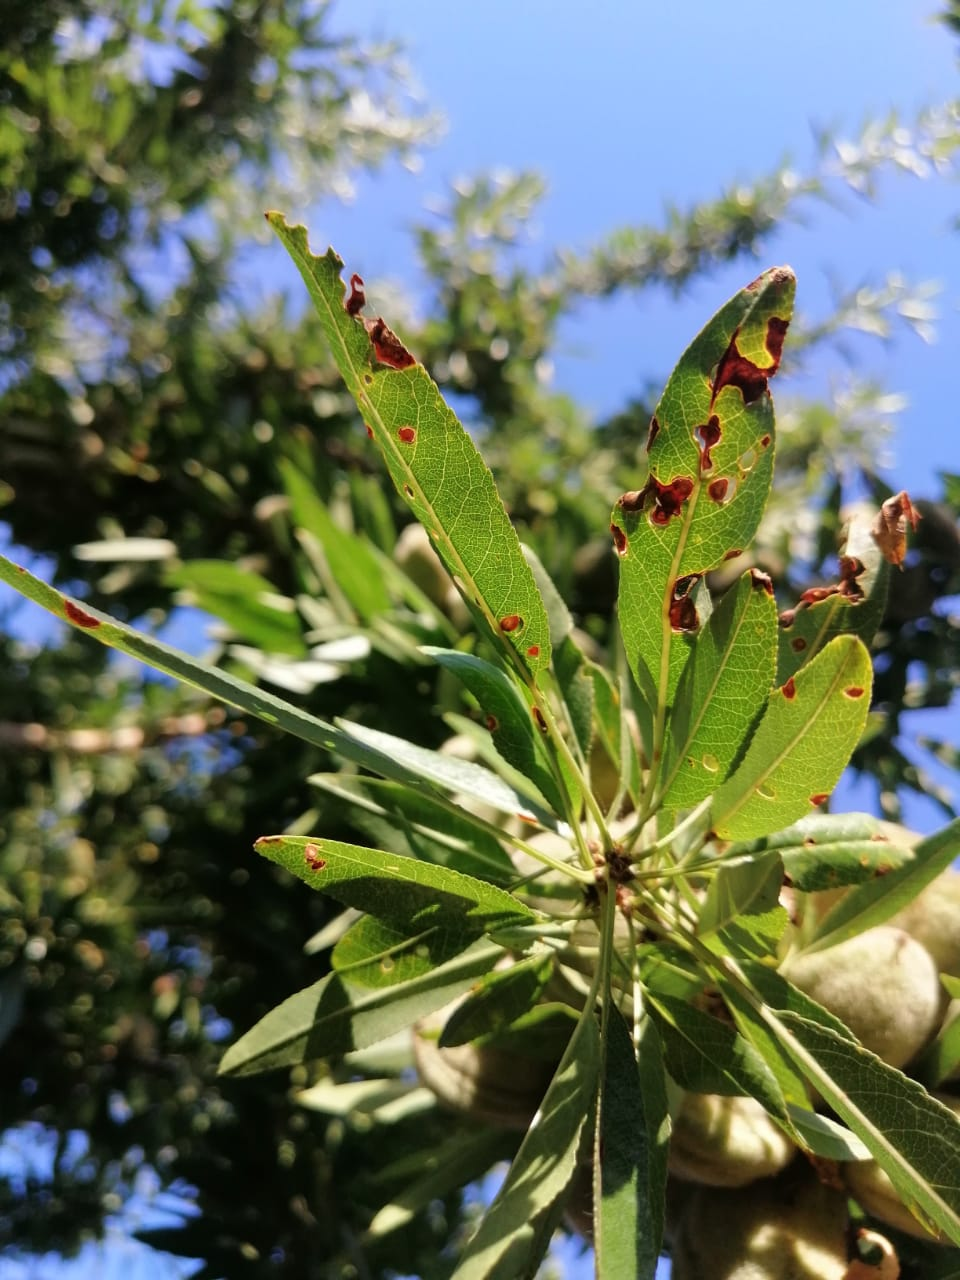polystigma: (151, 406, 460, 640), (587, 925, 960, 1058), (264, 645, 482, 777), (565, 595, 725, 673)
